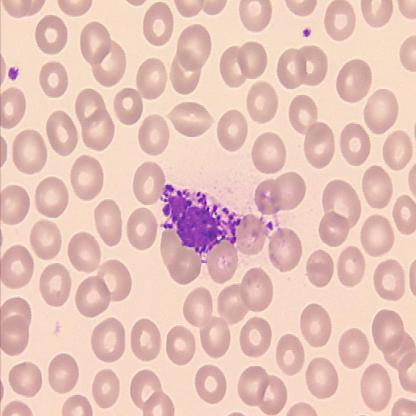Basophil: (159, 178, 242, 263)
